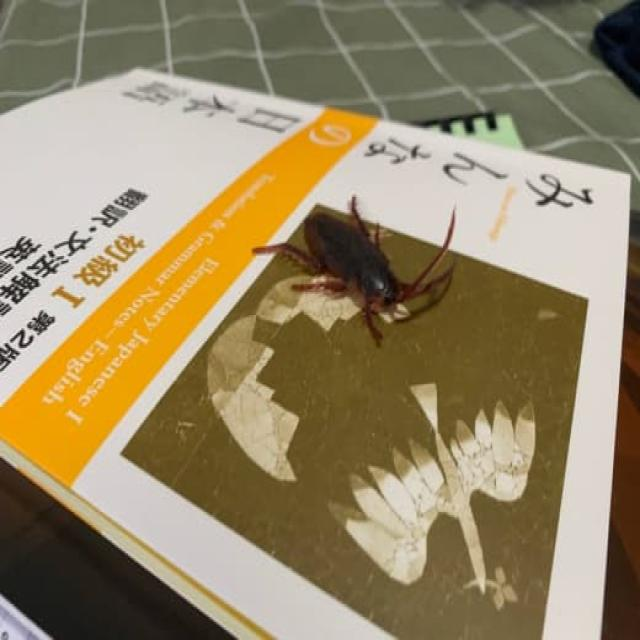Cockroach: (250, 174, 460, 353)
